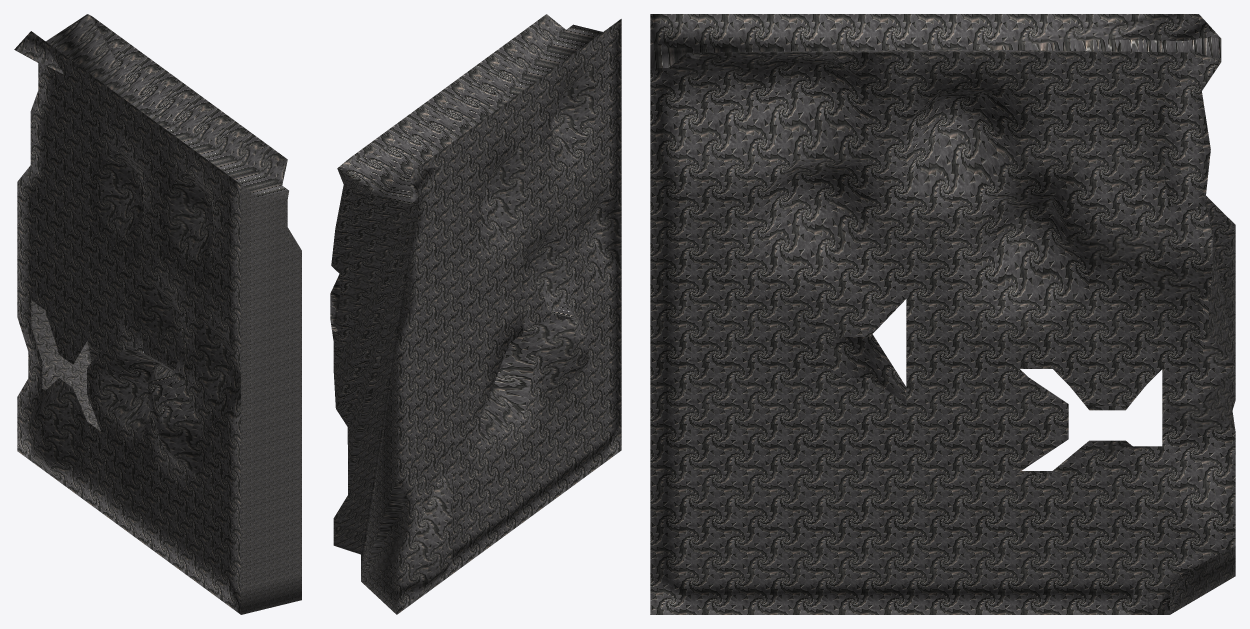
The model's file is Wall.fbx.
3 renders of one model, left to right at view 1: azimuth 30°, elevation 25°; view 2: azimuth 150°, elevation 25°; view 3: azimuth 270°, elevation 25°, orthographic. The views are drawn at different scales.
Visible parts, largest first — view 1: BrokenDoor01; view 2: BrokenDoor01; view 3: BrokenDoor01.
Part boxes in pixels (box(x1,y1,x2,y2)): BrokenDoor01: box(14, 14, 301, 614); BrokenDoor01: box(330, 14, 621, 614); BrokenDoor01: box(650, 14, 1235, 614).
Bounding box in the file's own units: 1.45 × 5.93 × 5.6.
2 materials, 2 textured.
